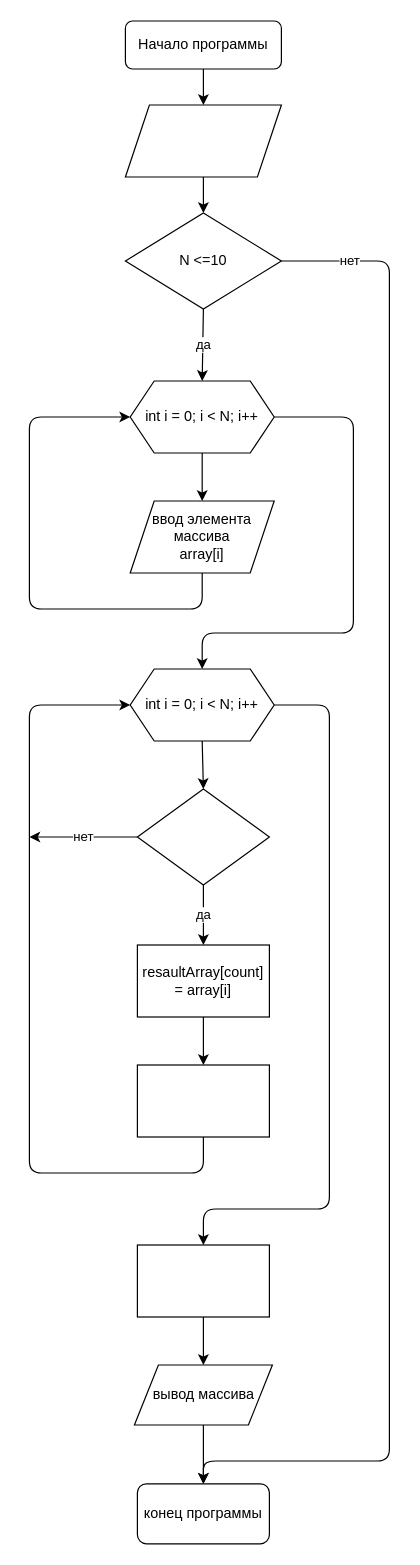
Image size: 420x1565. Some labels were removed from this diagram. Each missing label, with the centre of its shape:
"array[i] <=3" belongs at point (202, 836).
"count ++" belongs at point (202, 1100).
"resize(array,count)" belongs at point (202, 1280).
"Ввод к-ва элементов N массива" belongs at point (202, 140).
